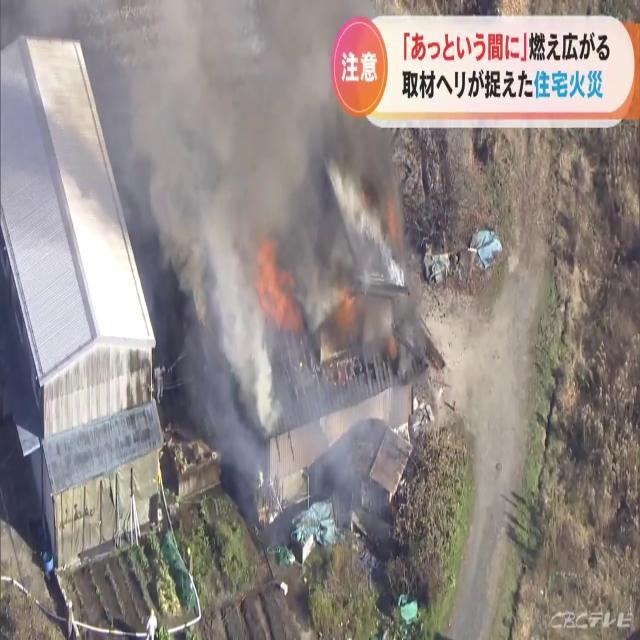Smoke: (155, 2, 421, 474)
